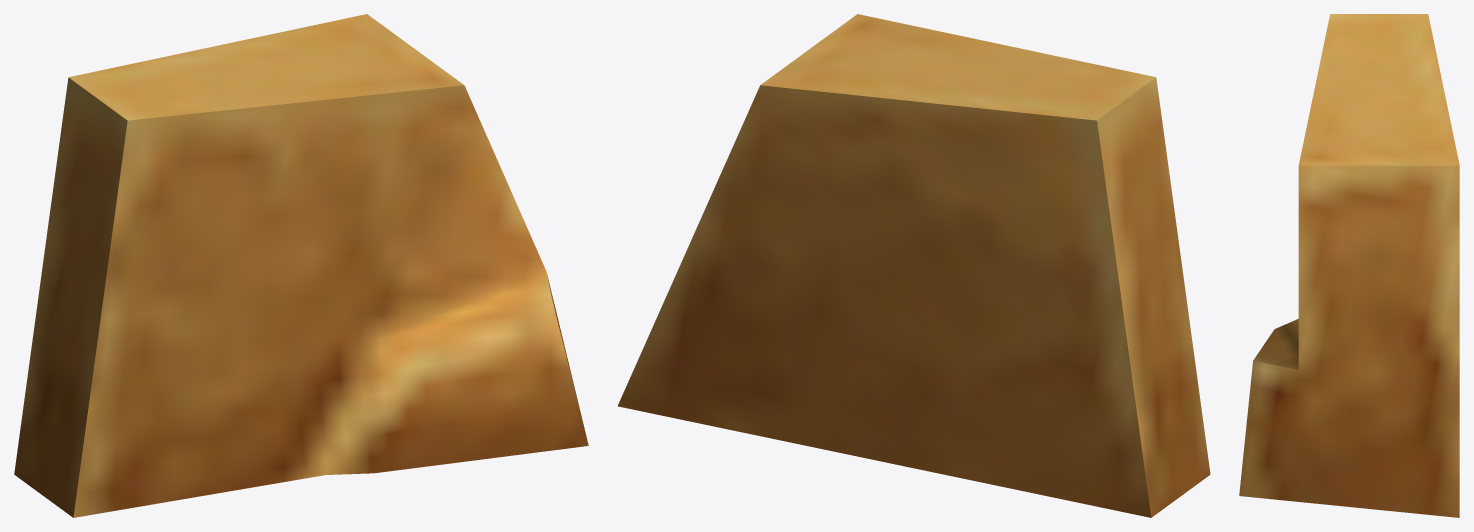
File: Stage_ShaMo_XiaoShiKuai02.FBX
3 renders of one model, left to right at view 1: azimuth 30°, elevation 25°; view 2: azimuth 150°, elevation 25°; view 3: azimuth 270°, elevation 25°, orthographic. The views are drawn at different scales.
Parts seen in each view (by area): view 1: Stage_ShaMo_XiaoShiKuai02; view 2: Stage_ShaMo_XiaoShiKuai02; view 3: Stage_ShaMo_XiaoShiKuai02.
Boxes of the visible parts, left/top/right/bottom form: Stage_ShaMo_XiaoShiKuai02: left=14, top=14, right=588, bottom=517; Stage_ShaMo_XiaoShiKuai02: left=618, top=14, right=1210, bottom=517; Stage_ShaMo_XiaoShiKuai02: left=1239, top=14, right=1459, bottom=517.
Size of the model in its own units: 83.19 by 59.32 by 37.3.
